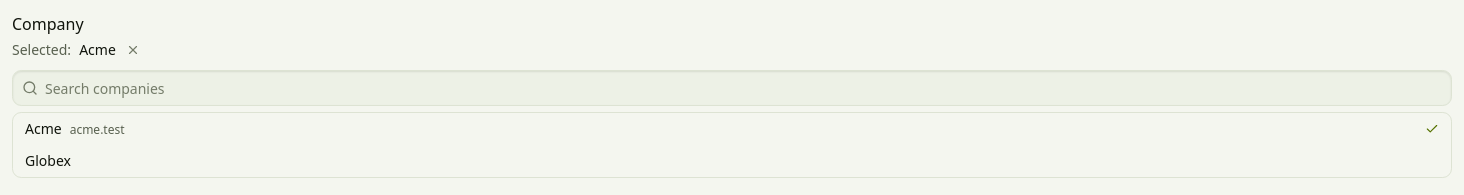
Scenario: clearing the selection reports null and says what empty means
The width and height of the screenshot is (1464, 195).
Click the button named "Clear the selected company": x=133, y=50 124,41 -> 142,59
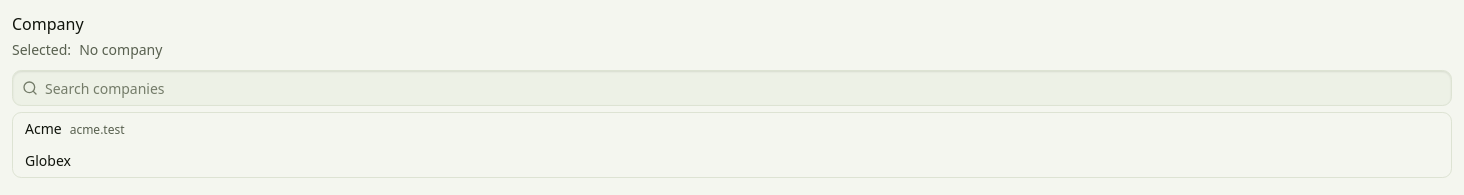
Expected: the text "No company" is shown, 79,40 -> 162,60
